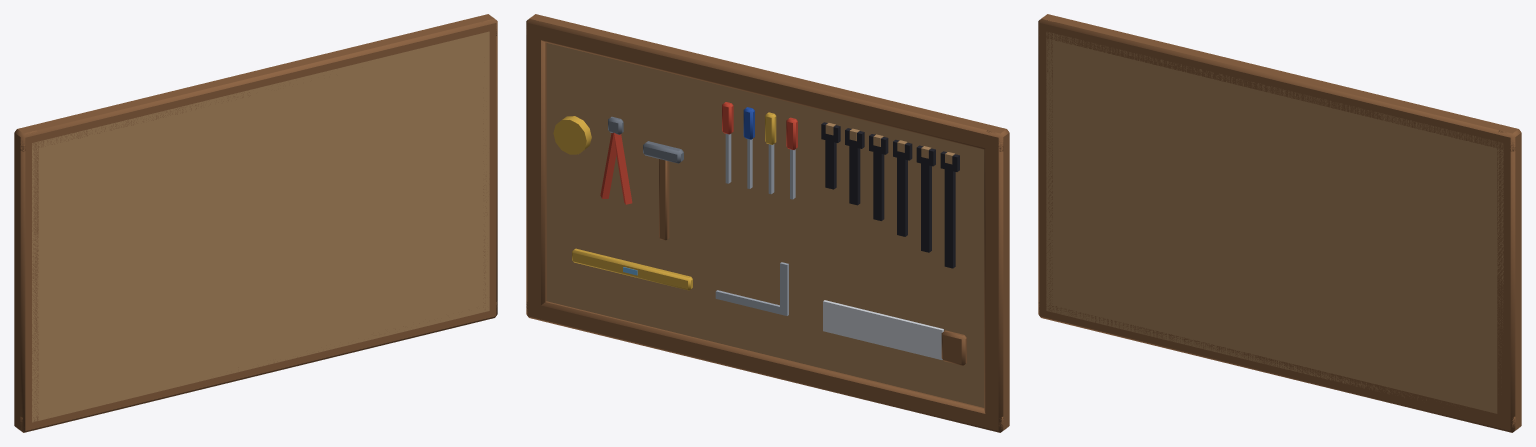
The model's file is pegboard.glb.
3 views of the same model, side by side, from view 1: azimuth 30°, elevation 25°; view 2: azimuth 150°, elevation 25°; view 3: azimuth 330°, elevation 25° (orthographic).
Visible parts, largest first — view 1: body; view 2: body; view 3: body.
Boxes of the visible parts, x1,y1,x2,y2 form: body: [14, 14, 497, 432]; body: [526, 14, 1009, 432]; body: [1038, 14, 1521, 432].
Size of the model in its own units: 2 by 1.2 by 0.087.
